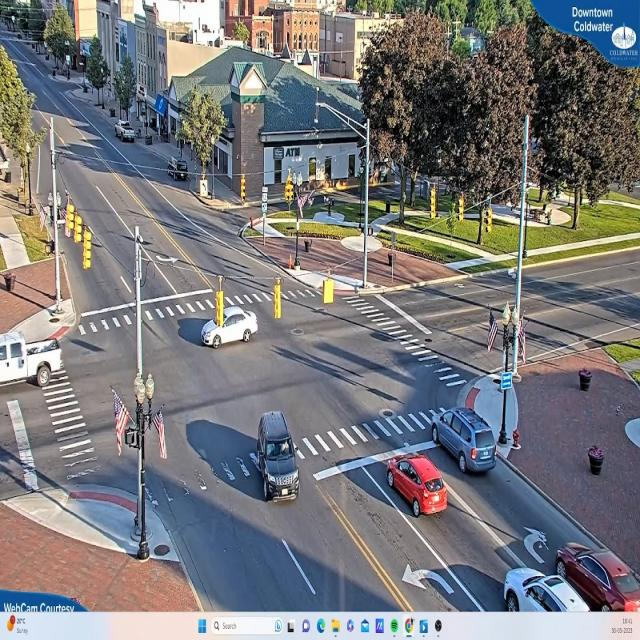car: (554, 545, 640, 615), (497, 570, 609, 611), (430, 409, 497, 474), (255, 413, 303, 502), (385, 455, 450, 519), (0, 330, 65, 387), (195, 302, 258, 348), (116, 122, 136, 143)
